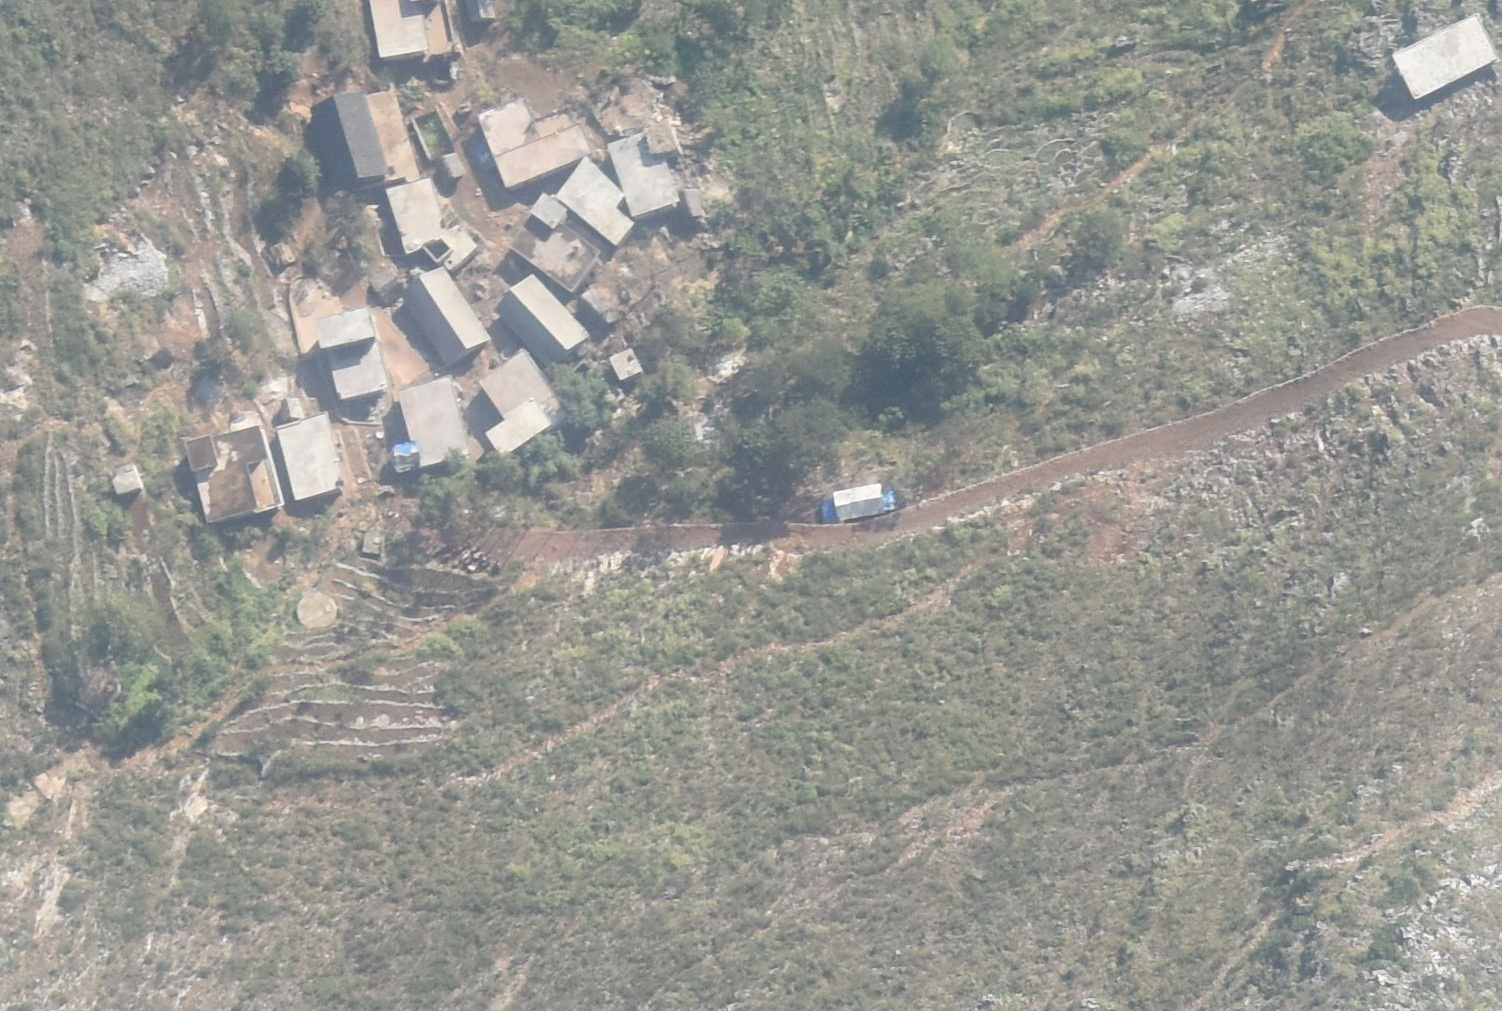building: (480, 95, 590, 190), (185, 422, 283, 519), (1391, 13, 1495, 101), (477, 350, 562, 455), (403, 268, 491, 368), (511, 192, 600, 290), (387, 177, 477, 270), (501, 274, 589, 365), (308, 92, 386, 185), (608, 121, 680, 216), (275, 398, 339, 501), (557, 158, 634, 243), (317, 307, 387, 396), (399, 379, 470, 466), (367, 3, 460, 63), (830, 484, 883, 521), (112, 461, 143, 496), (608, 348, 641, 380), (443, 152, 465, 181), (363, 531, 381, 553)
well: (295, 591, 338, 631)
